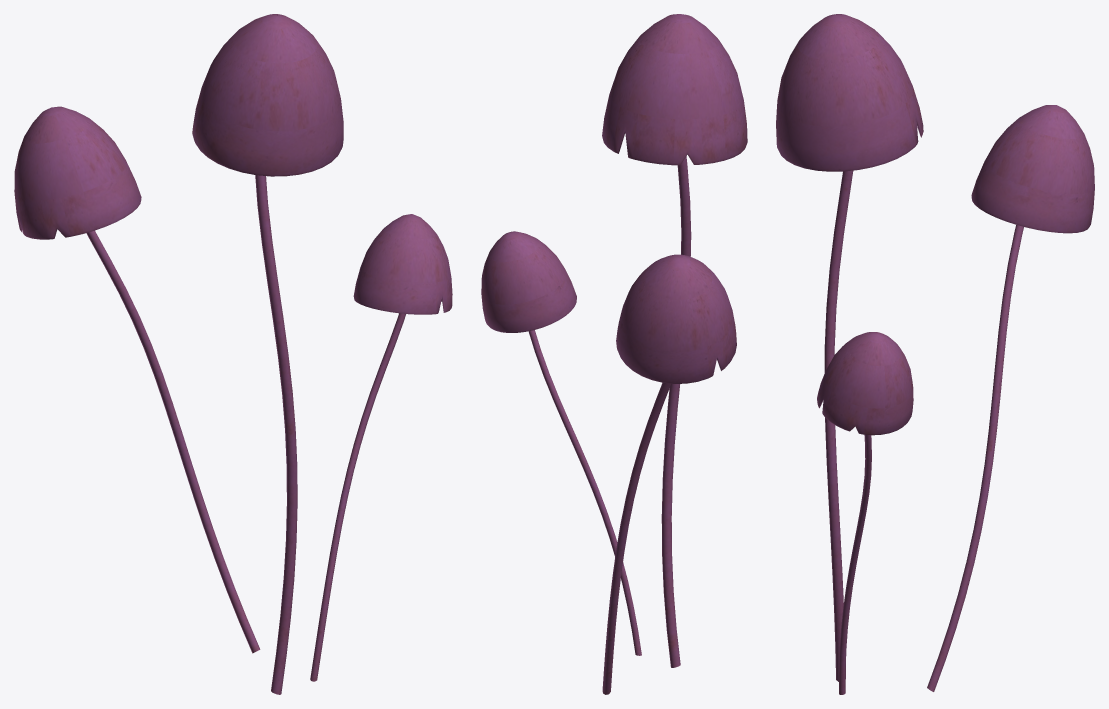
File: Shrooms_03.fbx
3 renders of one model, left to right at view 1: azimuth 30°, elevation 25°; view 2: azimuth 150°, elevation 25°; view 3: azimuth 270°, elevation 25°, orthographic. The views are drawn at different scales.
Visible parts, largest first — view 1: Shrooms.003; view 2: Shrooms.003; view 3: Shrooms.003.
Boxes of the visible parts, x1,y1,x2,y2 form: Shrooms.003: (14, 14, 452, 694); Shrooms.003: (481, 14, 747, 694); Shrooms.003: (776, 14, 1094, 694).
Bounding box in the file's own units: 5.11 × 4.3 × 9.88.
